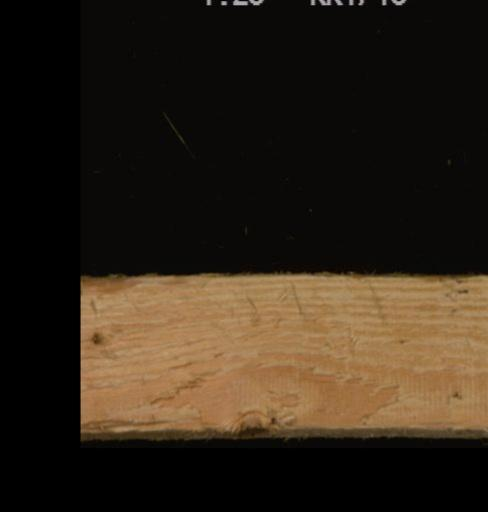edge_knot: (227, 401, 287, 435)
small_knot: (85, 323, 106, 349)
wave: (80, 410, 221, 438), (80, 273, 218, 293)
